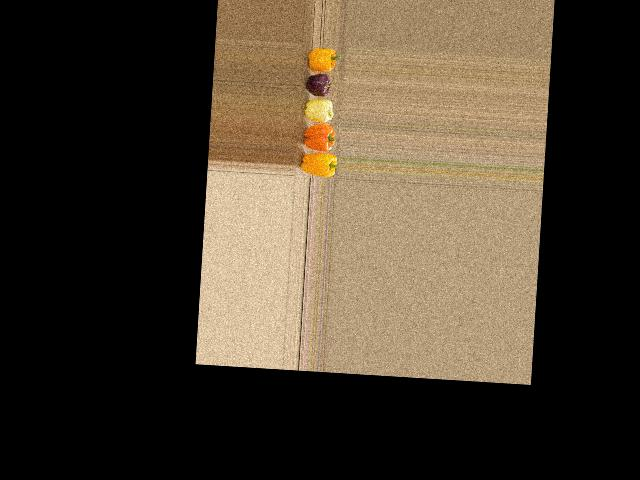bell_pepper: (302, 44, 342, 70)
